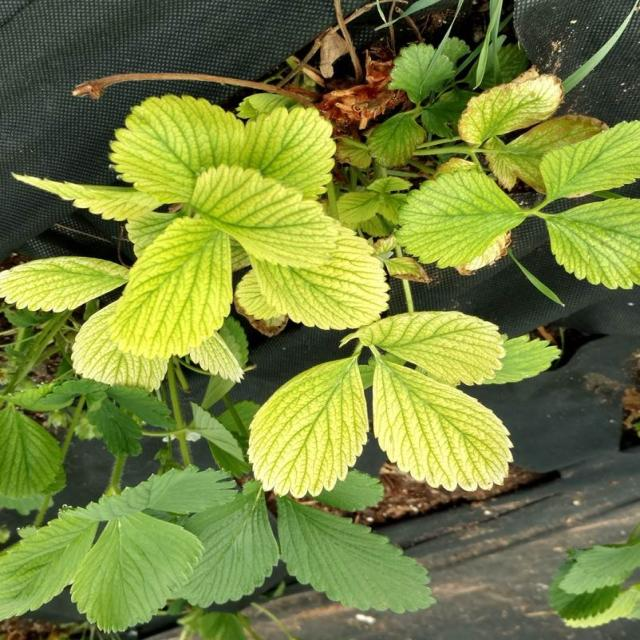Chlorosis: (18, 26, 624, 514)
